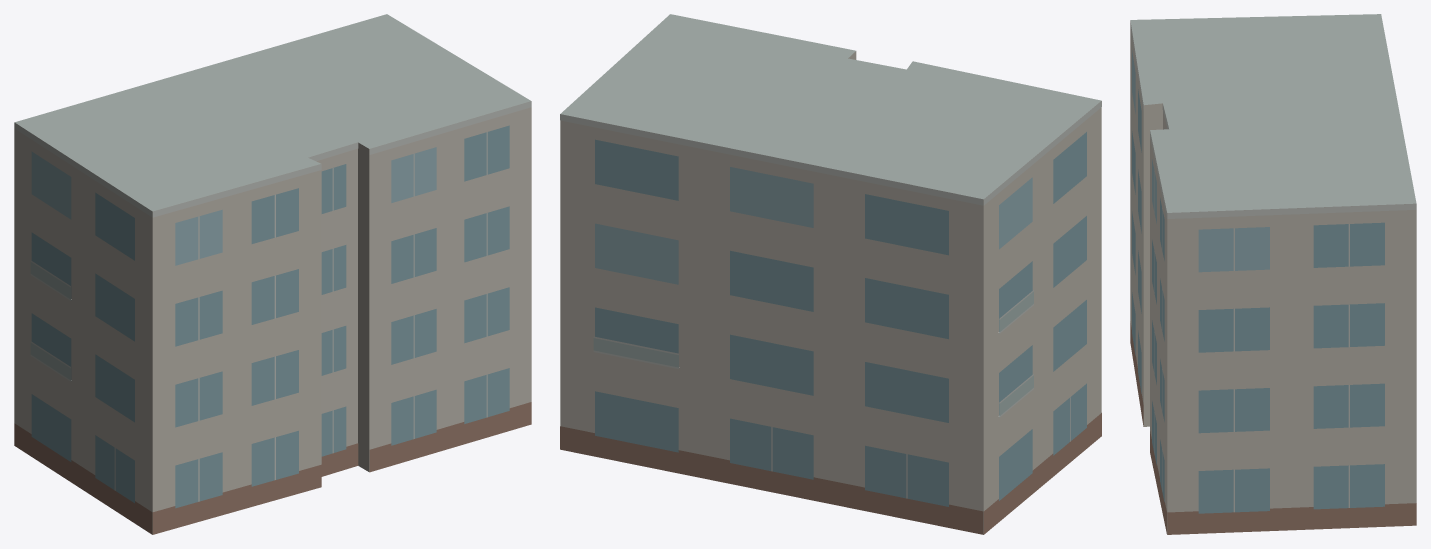
The model's file is survey-upis-32629252.glb.
The picture shows the model from 3 angles, left to right: view 1: azimuth 30°, elevation 25°; view 2: azimuth 150°, elevation 25°; view 3: azimuth 270°, elevation 25°; orthographic projection. The views are drawn at different scales.
Visible parts, largest first — view 1: survey-upis-32629252.tmp; view 2: survey-upis-32629252.tmp; view 3: survey-upis-32629252.tmp.
Part boxes in pixels (bbox=[...]): survey-upis-32629252.tmp: bbox=[14, 14, 531, 534]; survey-upis-32629252.tmp: bbox=[560, 14, 1101, 534]; survey-upis-32629252.tmp: bbox=[1130, 14, 1416, 534].
Bounding box in the file's own units: 16.98 × 12.8 × 10.33.
